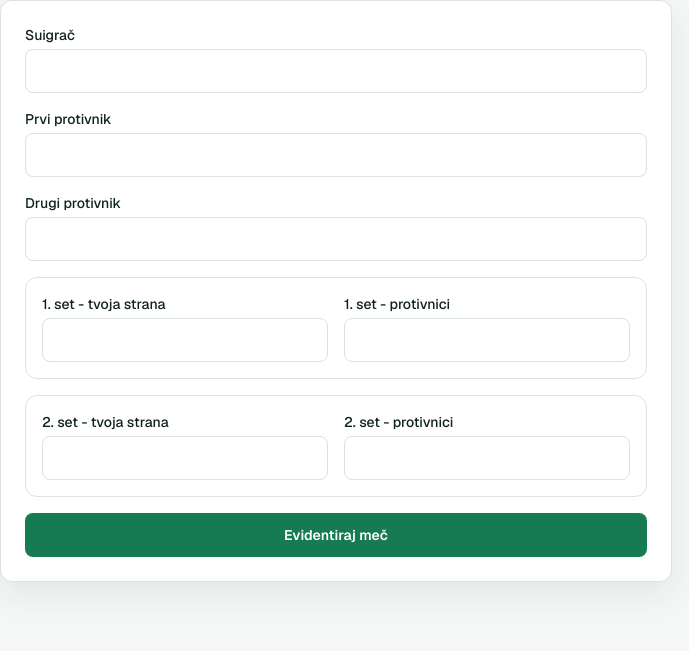
RecordMatchForm › keeps the chosen participants after a failed validation
This screenshot has width=689, height=651.
Type "Ivan" into the dropdown labelled "Suigrač". click: coordinates (336, 71)
box: [25, 49, 647, 93]
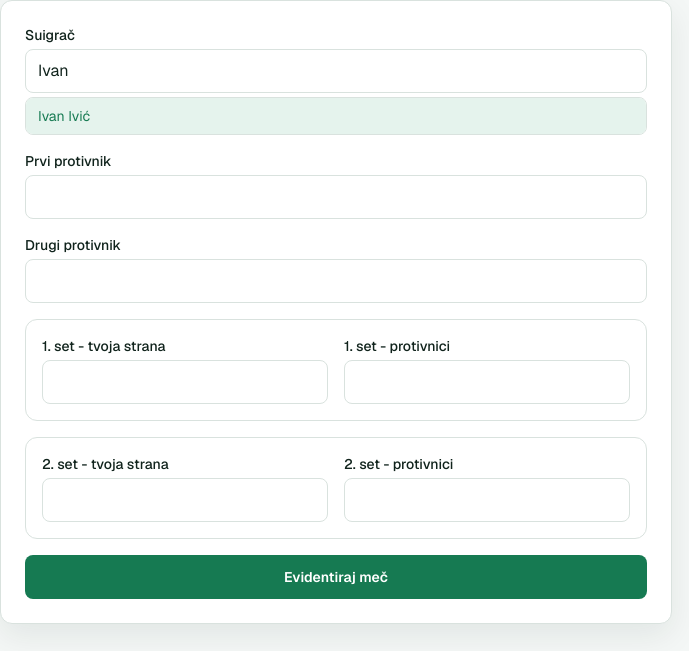
Press the mouse on the option "Ivan Ivić" at coordinates (64, 116), box [26, 98, 646, 134]
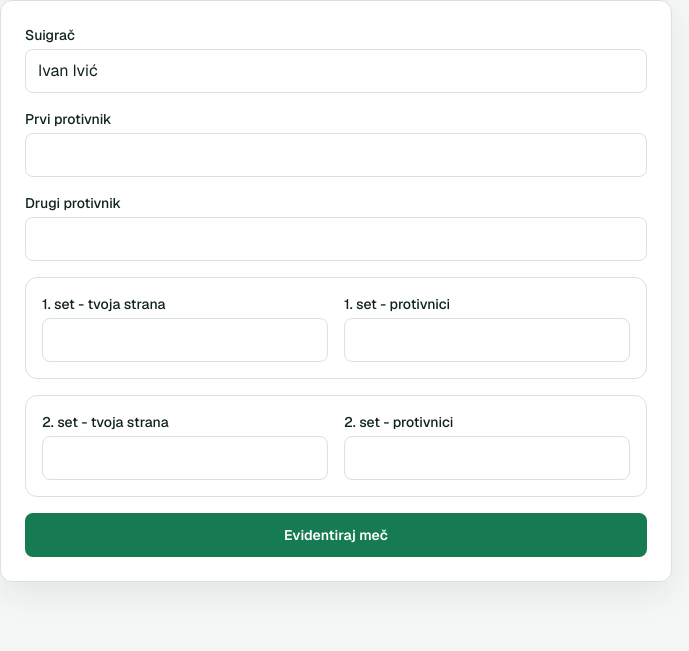
Submit the form with test id "record-match-form"
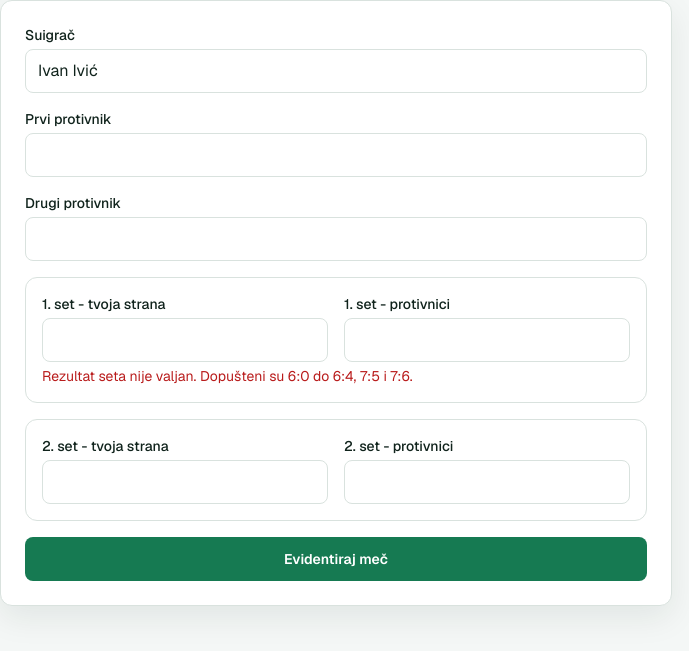
Check: the element named "partnerId" holds "player-2", box [25, 25, 647, 93]
Check: the dropdown labelled "Suigrač" holds "Ivan Ivić", box [25, 49, 647, 93]
Check: the text "Rezultat seta nije valjan. Dopušteni su 6:0 do 6:4, 7:5 i 7:6." is shown, box [42, 367, 413, 385]
